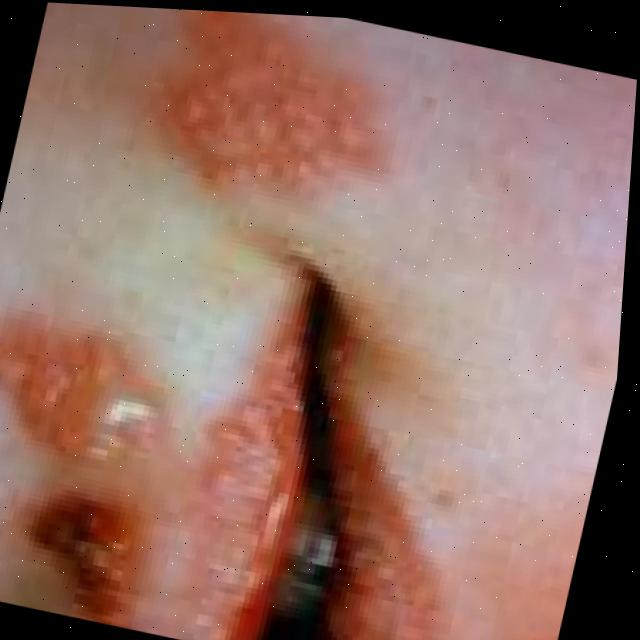Shingles: (0, 316, 192, 613), (155, 9, 397, 213)
